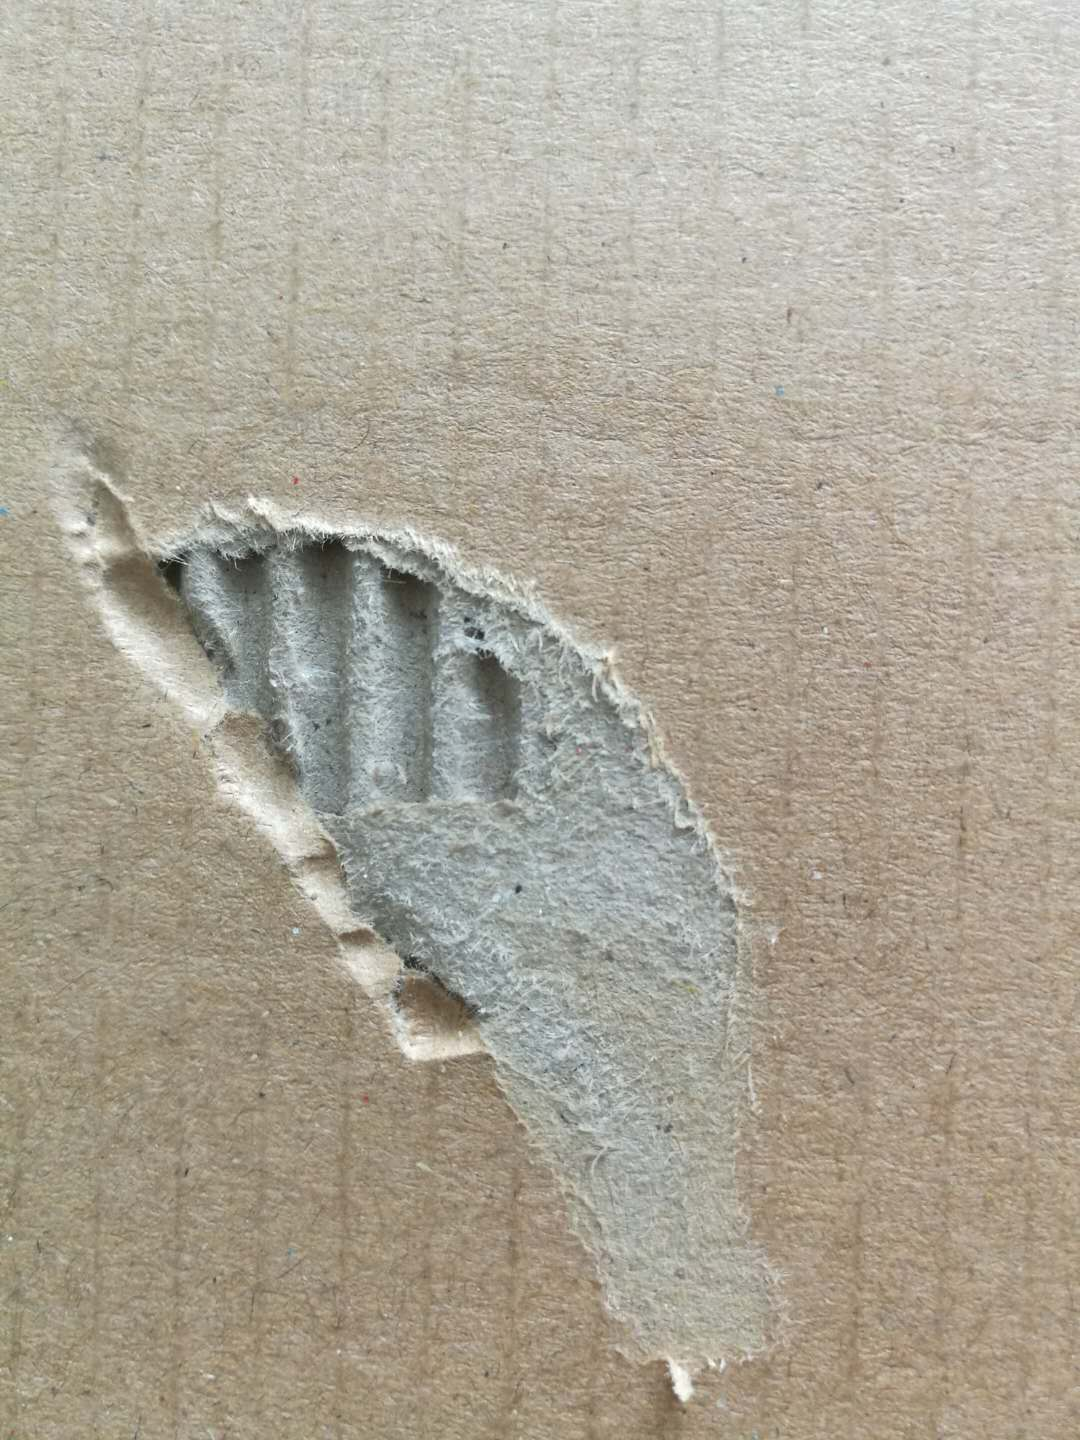defect: (32, 384, 847, 1421)
